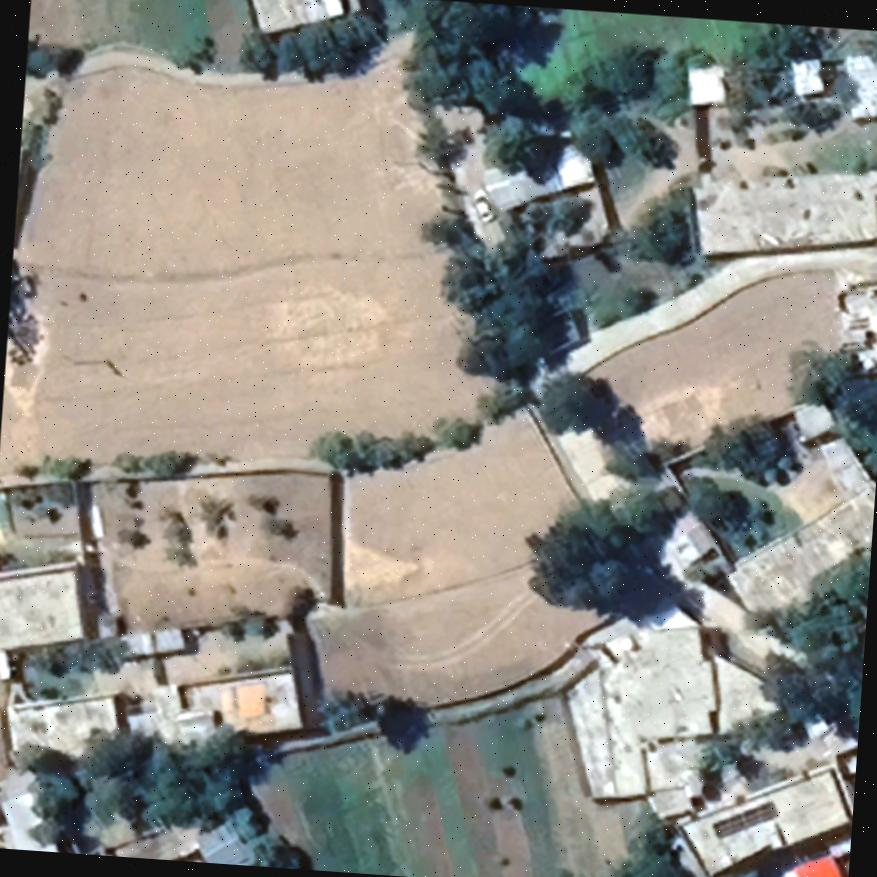Solarpanel: (708, 795, 782, 842)
